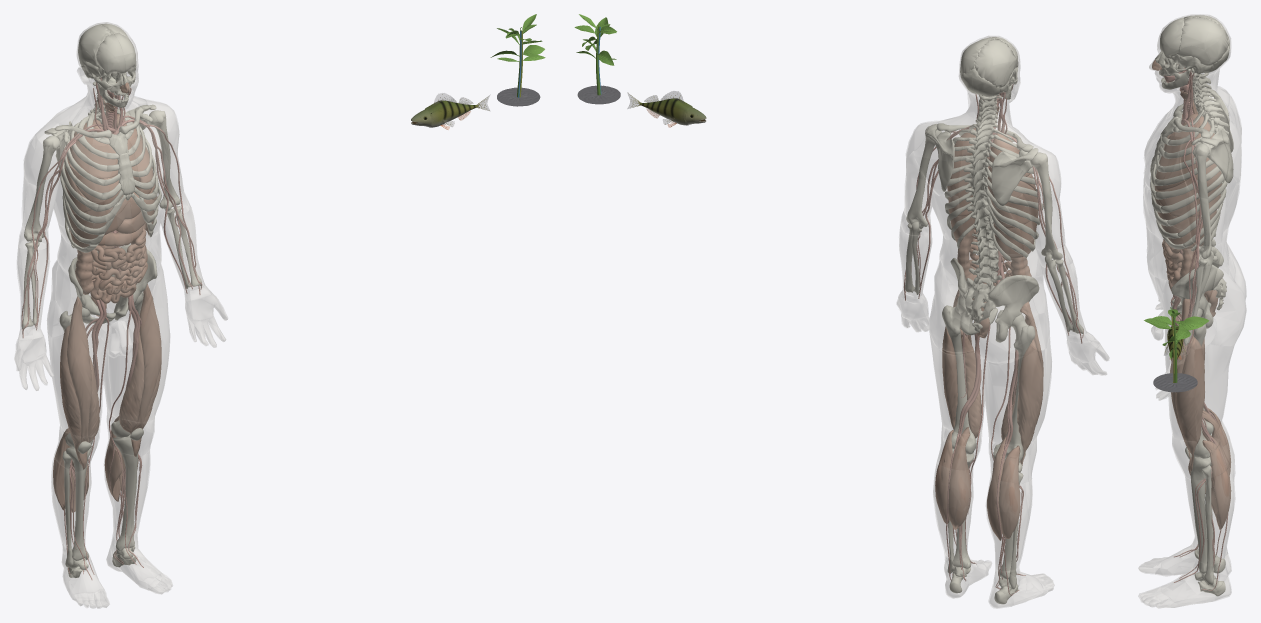
Rendered from heart-and-lungs-bench.glb.
3 renders of one model, left to right at view 1: azimuth 30°, elevation 25°; view 2: azimuth 150°, elevation 25°; view 3: azimuth 270°, elevation 25°, orthographic. The views are drawn at different scales.
Visible parts, largest first — view 1: skin-outline, skin-wire, skeleton, ribcage, leg-muscles.r, vessels-back, leg-muscles.l, small-intestine, vessels-out, lung-right, plant-specimen, fish-body (+3 smaller); view 2: skin-outline, skin-wire, skeleton, leg-muscles.r, leg-muscles.l, vessels-back, ribcage, plant-specimen, vessels-out, fish-body, lung-right, large-intestine (+2 smaller); view 3: skin-outline, skin-wire, skeleton, ribcage, leg-muscles.l, lung-left, vessels-back, plant-specimen, vessels-out, diaphragm, leg-muscles.r, small-intestine (+2 smaller).
Part boxes in pixels (bbox=[...]): skin-outline: bbox=[14, 22, 227, 608]; skin-wire: bbox=[15, 22, 226, 607]; skeleton: bbox=[22, 23, 201, 577]; ribcage: bbox=[60, 108, 161, 252]; leg-muscles.r: bbox=[53, 296, 99, 512]; vessels-back: bbox=[21, 88, 201, 574]; leg-muscles.l: bbox=[104, 284, 161, 501]; small-intestine: bbox=[90, 228, 147, 303]; vessels-out: bbox=[22, 77, 201, 579]; lung-right: bbox=[64, 119, 120, 214]; plant-specimen: bbox=[490, 14, 545, 106]; fish-body: bbox=[411, 93, 489, 129]; skin-outline: bbox=[896, 36, 1109, 608]; skin-wire: bbox=[897, 36, 1107, 606]; skeleton: bbox=[905, 37, 1083, 604]; leg-muscles.r: bbox=[987, 301, 1043, 540]; leg-muscles.l: bbox=[935, 289, 981, 529]; vessels-back: bbox=[903, 93, 1082, 595]; ribcage: bbox=[944, 125, 1043, 260]; plant-specimen: bbox=[574, 14, 620, 104]; vessels-out: bbox=[905, 92, 1083, 588]; fish-body: bbox=[627, 91, 706, 127]; lung-right: bbox=[987, 133, 1038, 228]; large-intestine: bbox=[957, 228, 1031, 338]; skin-outline: bbox=[1138, 14, 1246, 608]; skin-wire: bbox=[1139, 15, 1245, 607]; skeleton: bbox=[1155, 15, 1233, 596]; ribcage: bbox=[1150, 103, 1227, 251]; leg-muscles.l: bbox=[1170, 298, 1231, 529]; lung-left: bbox=[1154, 113, 1221, 216]; vessels-back: bbox=[1170, 70, 1228, 590]; plant-specimen: bbox=[1144, 307, 1209, 392]; vessels-out: bbox=[1173, 69, 1214, 582]; diaphragm: bbox=[1155, 170, 1216, 249]; leg-muscles.r: bbox=[1171, 314, 1230, 474]; small-intestine: bbox=[1162, 239, 1182, 290].
Size of the model in its own units: 1.71 by 1.71 by 0.2948.
